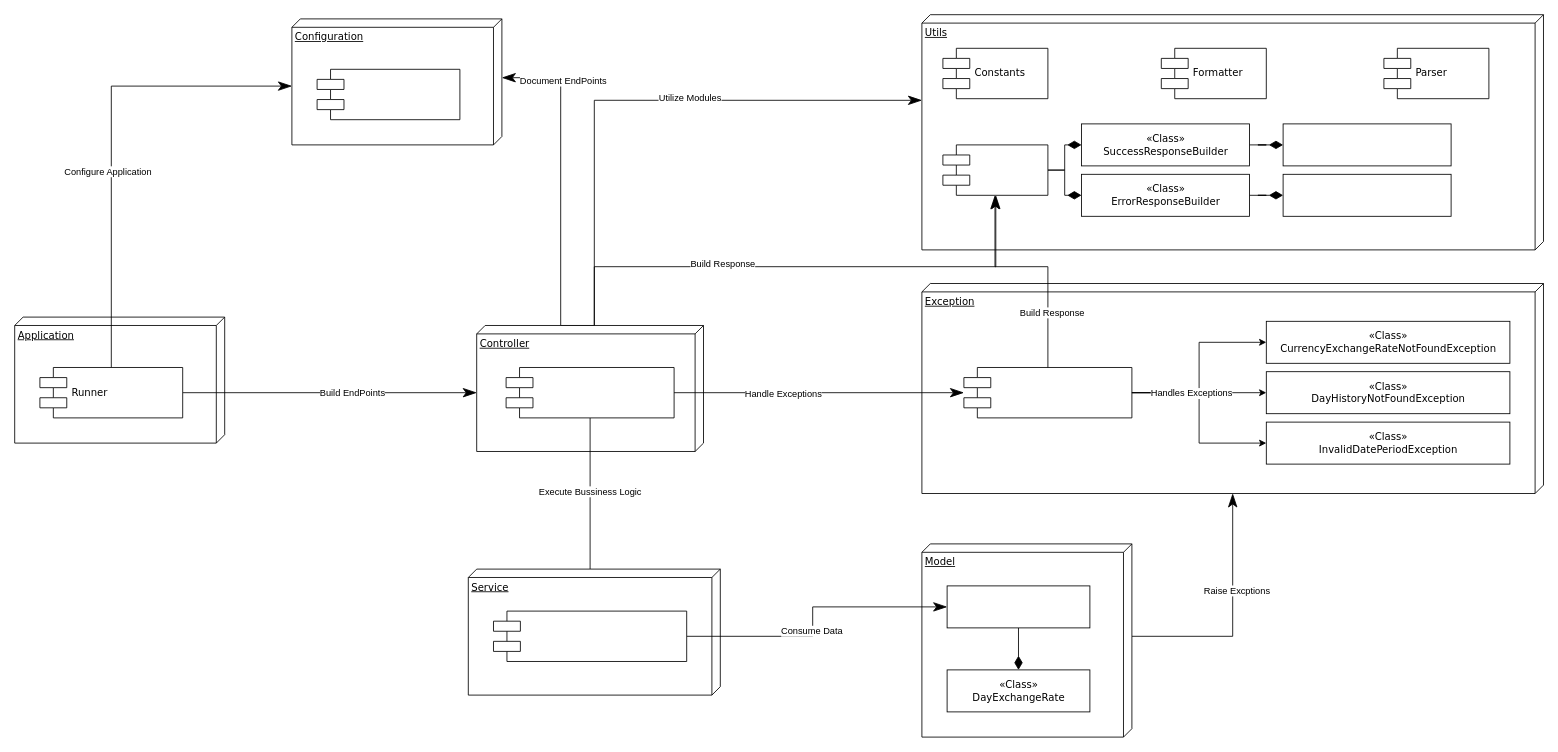
The diagram is 1558 pixels wide and 752 high, and some of its shapes have lost their labels. The centre of each missing label's shape, as x and y in pixels:
RateExchangeAdvice: (x=1047, y=392)
RateExchangeController: (x=589, y=392)
RateExchangeService: (x=590, y=636)
Response: (x=995, y=169)
SwaggerConfig: (x=388, y=94)
«Class» ErrorResponse: (x=1366, y=194)
«Class» RateExchangeHistory: (x=1018, y=606)
«Class» SuccessResponse: (x=1366, y=144)
